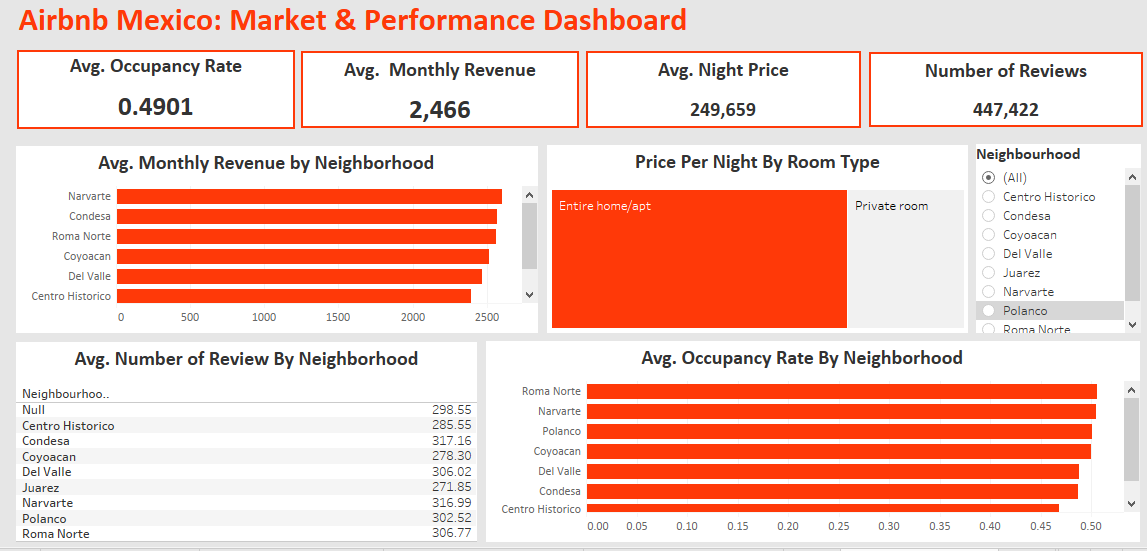

Layout of this report page (visuals, bound fields, positions):
{"tool":"tableau","page":{"name":"AIRBNB DASHBOARD","canvas":[1000,1000],"units":"permille","ordinal":0},"visuals":[{"type":"text","box":[14.7,3.6,638.1,81.5]},{"type":"worksheet","title":"Average Occupancy Rate","mark":"Automatic","box":[15.6,99.6,240.7,143.1]},{"type":"worksheet","title":"Average monthly revenue","mark":"Automatic","box":[261.5,101.5,240.7,139.5]},{"type":"worksheet","title":"Sheet 8","mark":"Automatic","box":[508.2,101.5,238.1,139.5]},{"type":"worksheet","title":"Sheet 9","mark":"Automatic","box":[753.2,103.3,237.2,135.9]},{"type":"filter","title":"Monthly rev. by neighborhood","param":"[federated.11w4udq09vjnnx1h8ddif08e1h1c].[none:neighbourhood (neighborhood_kpis.","box":[845.9,269.9,130.7,342.4]},{"type":"worksheet","title":"Sheet 7","mark":"Automatic","box":[474.5,271.7,364.5,340.6]},{"type":"worksheet","title":"Monthly rev. by neighborhood","mark":"Automatic","rows":["neighbourhood (neighborhood_kpis.csv)"],"cols":["estimated_monthly_revenue (neighborhood_kpis.csv)"],"box":[14.7,273.6,451.9,338.8]},{"type":"worksheet","title":"Occupancy Rate by Neighborhood","mark":"Automatic","rows":["neighbourhood (neighborhood_kpis.csv)"],"cols":["occupancy_rate (neighborhood_kpis.csv)"],"box":[421.7,626.8,555,364.1]},{"type":"worksheet","title":"Revenue & Occupancy Performance by Neighborhood","mark":"Automatic","rows":["neighbourhood (neighborhood_kpis.csv)"],"box":[14.7,628.6,399.1,362.3]}]}

Visuals, with their boxes on the dashboard's canvas, which has no fixed pixel size, in thousandths of its width and height (x1, y1, x2, y2). These are canvas units, not pixel positions in the 1147x551 screenshot, which may show the page scaled, cropped or inside an application window:
text: [15, 4, 653, 85]
"Average Occupancy Rate" worksheet: [16, 100, 256, 243]
"Average monthly revenue" worksheet: [262, 102, 502, 241]
"Sheet 8" worksheet: [508, 102, 746, 241]
"Sheet 9" worksheet: [753, 103, 990, 239]
"Monthly rev. by neighborhood" filter: [846, 270, 977, 612]
"Sheet 7" worksheet: [474, 272, 839, 612]
"Monthly rev. by neighborhood" worksheet: [15, 274, 467, 612]
"Occupancy Rate by Neighborhood" worksheet: [422, 627, 977, 991]
"Revenue & Occupancy Performance by Neighborhood" worksheet: [15, 629, 414, 991]
